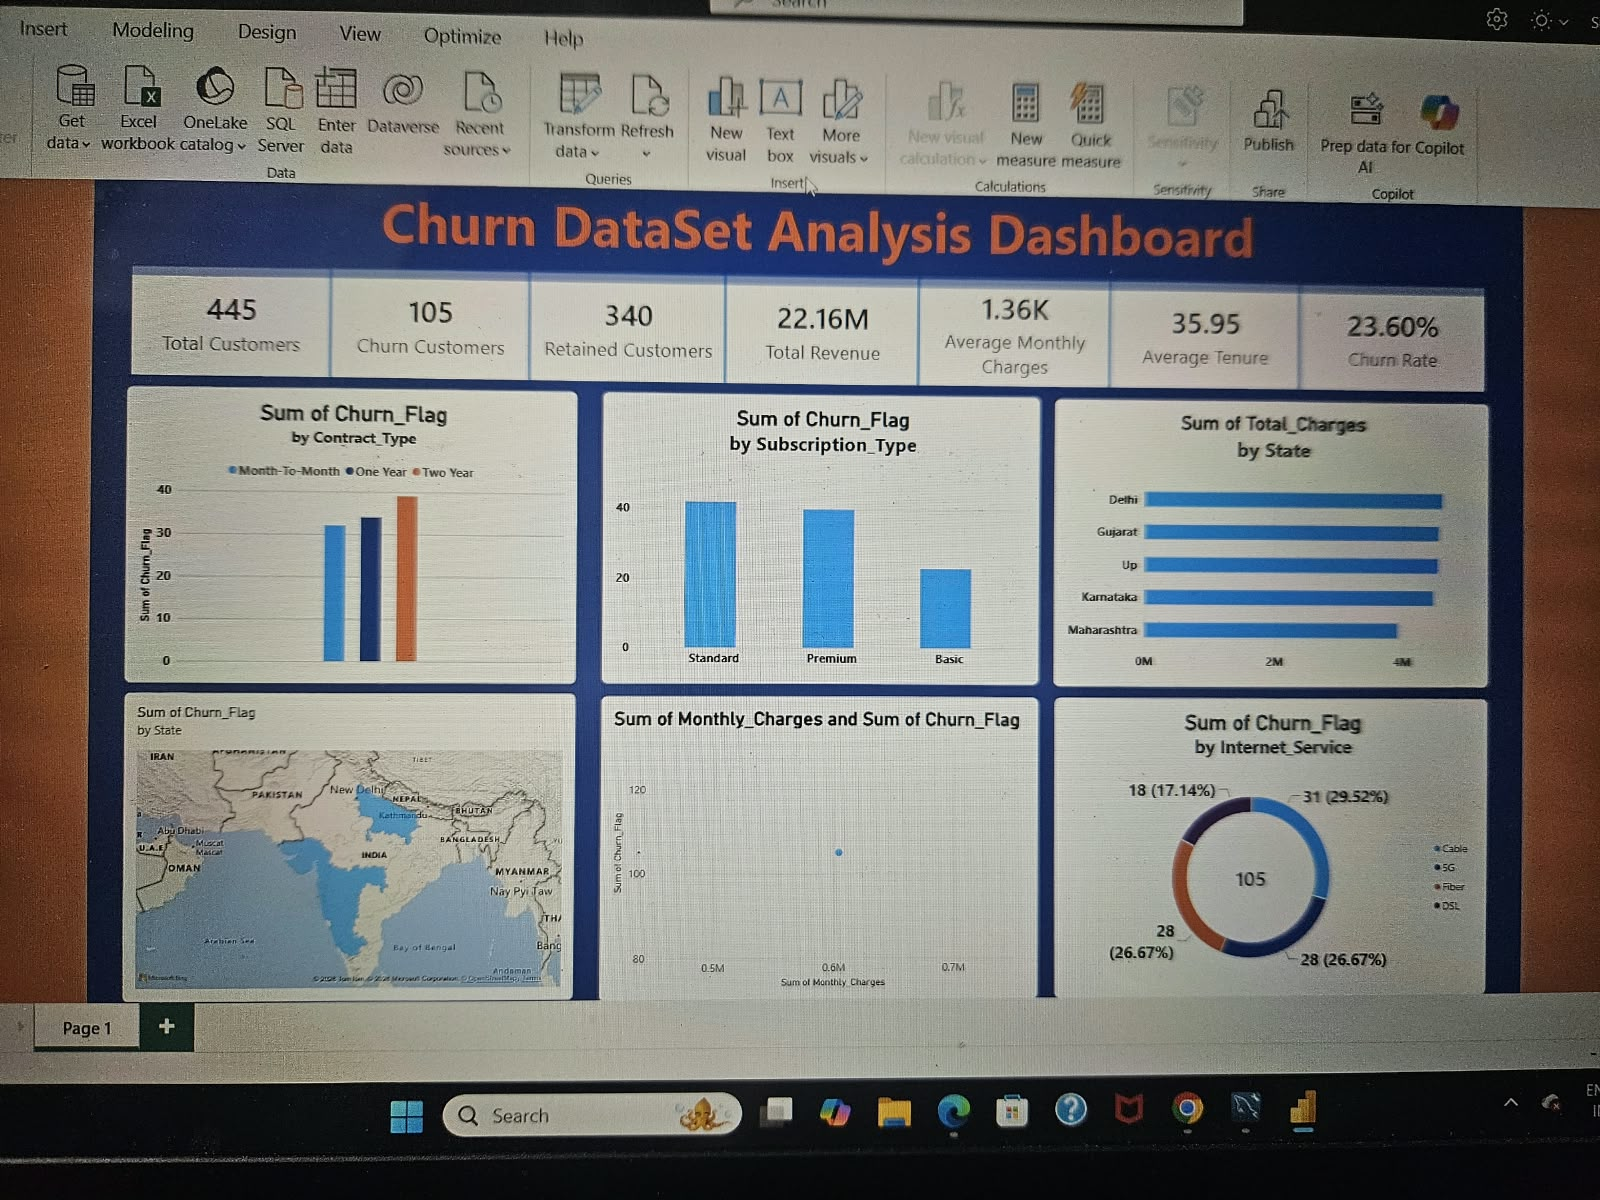

What the dashboard file says about the page in this screenshot:
{"tool":"powerbi","page":{"name":"Page 1","canvas":[1920,1080],"ordinal":0},"visuals":[{"type":"cardVisual","fields":{"Data":["Dax Measure.Total Customers","Dax Measure.Churn Customers","Dax Measure.Retained Customers","Dax Measure.Total Revenue","Dax Measure.Average Monthly Charges","Dax Measure.Average Tenure","Dax Measure.Churn Rate"]},"box":[18.5,82.3,1883.4,207.9],"z":0},{"type":"textbox","box":[18.5,0,1883.4,125.6],"z":1000},{"type":"clusteredColumnChart","fields":{"Series":["Clean_Churn_Data.Contract_Type"],"Y":["Sum(Clean_Churn_Data.Churn_Flag)"]},"box":[46,272,586.6,389],"z":2000},{"type":"columnChart","fields":{"Category":["Clean_Churn_Data.Subscription_Type"],"Y":["Sum(Clean_Churn_Data.Churn_Flag)"]},"box":[666,272,587,388],"z":3000},{"type":"filledMap","fields":{"Category":["Clean_Churn_Data.State"]},"box":[46,674,586.6,405.5],"z":4000},{"type":"scatterChart","fields":{"X":["Sum(Clean_Churn_Data.Monthly_Charges)"],"Y":["Sum(Clean_Churn_Data.Churn_Flag)"]},"box":[666,676,587,405],"z":5000},{"type":"barChart","fields":{"Category":["Clean_Churn_Data.State"],"Y":["Sum(Clean_Churn_Data.Total_Charges)"]},"box":[1274,274,598,388],"z":6000},{"type":"donutChart","fields":{"Category":["Clean_Churn_Data.Internet_Service"],"Y":["Sum(Clean_Churn_Data.Churn_Flag)"]},"box":[1276,676,596,404],"z":7000}]}

Visuals, with their boxes on the page's 1920x1080 design canvas (x1, y1, x2, y2). These are canvas units, not pixel positions in the 1600x1200 screenshot, which may show the page scaled, cropped or inside an application window:
cardVisual - Dax Measure.Total Customers x Dax Measure.Churn Customers: bbox=(18, 82, 1902, 290)
textbox: bbox=(18, 0, 1902, 126)
clusteredColumnChart - Clean_Churn_Data.Contract_Type x Sum(Clean_Churn_Data.Churn_Flag): bbox=(46, 272, 633, 661)
columnChart - Clean_Churn_Data.Subscription_Type x Sum(Clean_Churn_Data.Churn_Flag): bbox=(666, 272, 1253, 660)
filledMap - Clean_Churn_Data.State: bbox=(46, 674, 633, 1080)
scatterChart - Sum(Clean_Churn_Data.Monthly_Charges) x Sum(Clean_Churn_Data.Churn_Flag): bbox=(666, 676, 1253, 1081)
barChart - Clean_Churn_Data.State x Sum(Clean_Churn_Data.Total_Charges): bbox=(1274, 274, 1872, 662)
donutChart - Clean_Churn_Data.Internet_Service x Sum(Clean_Churn_Data.Churn_Flag): bbox=(1276, 676, 1872, 1080)
